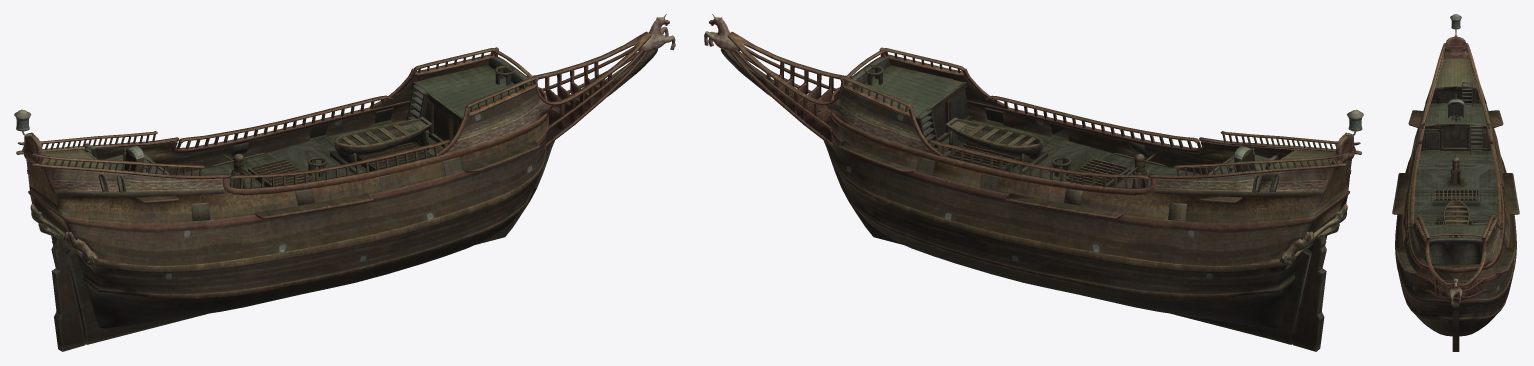
File: scan_shipwreck.glb
The picture shows the model from 3 angles, left to right: view 1: azimuth 30°, elevation 25°; view 2: azimuth 150°, elevation 25°; view 3: azimuth 270°, elevation 25°; orthographic projection. The views are drawn at different scales.
Visible parts, largest first — view 1: scan_shipwreck; view 2: scan_shipwreck; view 3: scan_shipwreck.
Boxes of the visible parts, x1,y1,x2,y2 form: scan_shipwreck: (14,14,675,351); scan_shipwreck: (704,14,1363,351); scan_shipwreck: (1392,14,1519,351).
Size of the model in its own units: 21.96 by 7.97 by 5.2.
Materials: 1 (1 with a texture image).
